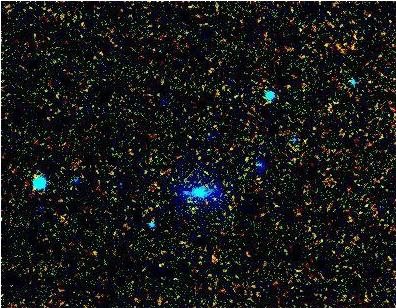star: (170, 178, 200, 208)
